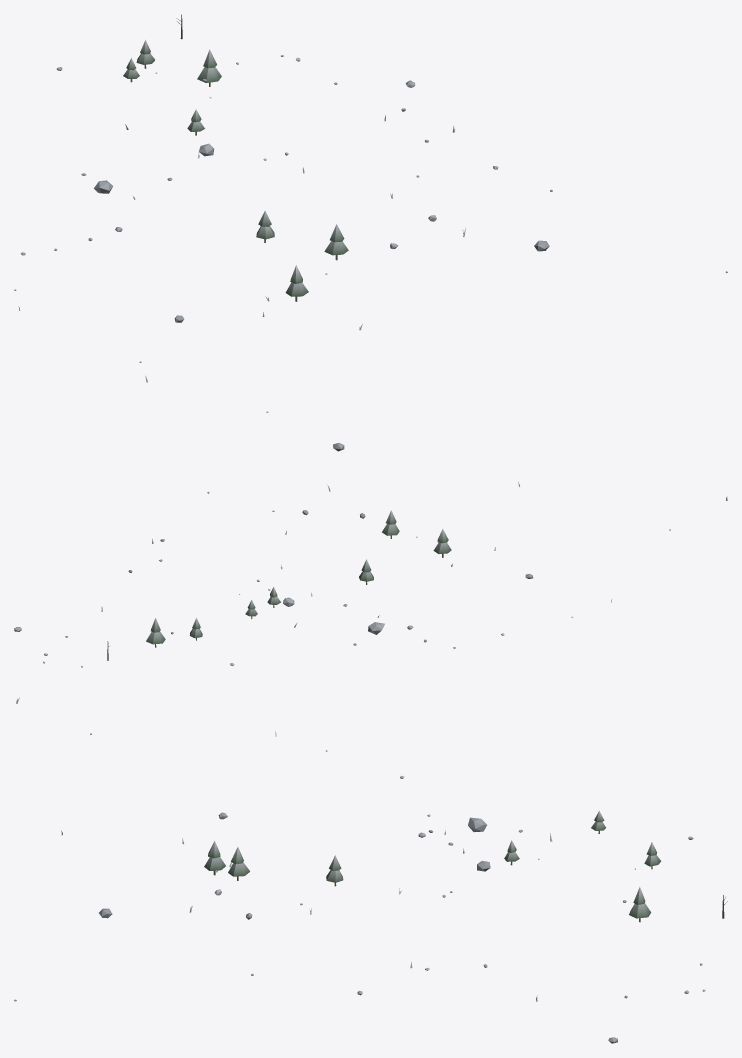
Rendered from frost_land_scatter_c20_12_lod1.glb.
3 renders of one model, top to bottom at view 1: azimuth 30°, elevation 25°; view 2: azimuth 150°, elevation 25°; view 3: azimuth 270°, elevation 25°, orthographic. The views are drawn at different scales.
Parts seen in each view (by area): view 1: frost_land_scatter_c20_12_lod1; view 2: frost_land_scatter_c20_12_lod1; view 3: frost_land_scatter_c20_12_lod1.
Boxes of the visible parts, <box> form: frost_land_scatter_c20_12_lod1: <box>14,14,727,382</box>; frost_land_scatter_c20_12_lod1: <box>14,411,727,667</box>; frost_land_scatter_c20_12_lod1: <box>14,697,727,1043</box>.
Bounding box in the file's own units: 195 × 33.46 × 218.
